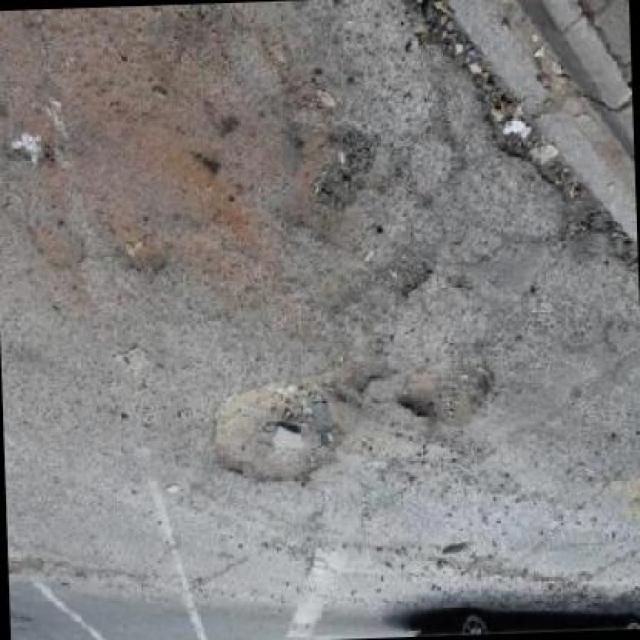pothole1: (403, 0, 637, 240), (207, 375, 351, 490), (394, 343, 495, 432), (283, 123, 379, 214)
